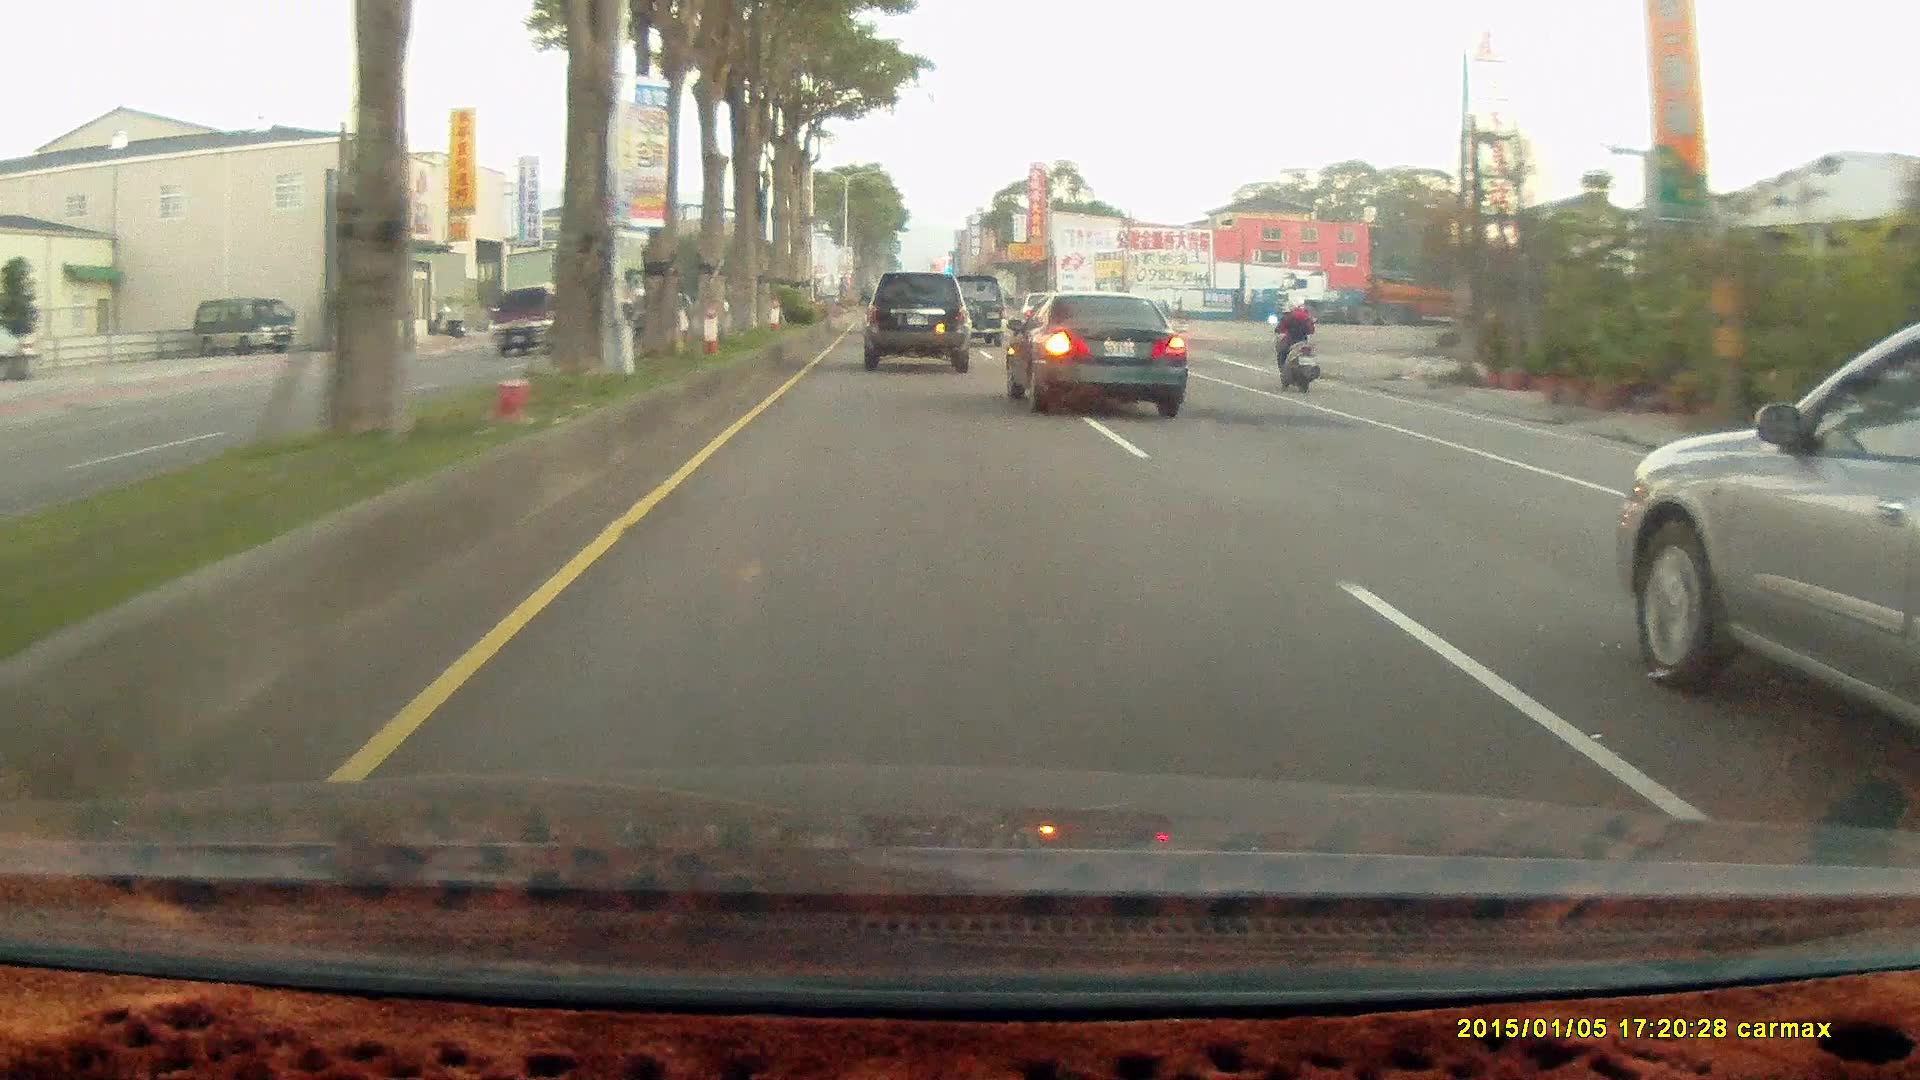rider: (1260, 288, 1329, 400), (1268, 288, 1322, 391)
vehicle: (1617, 317, 1919, 765), (1004, 289, 1192, 413), (1005, 289, 1188, 416), (1280, 264, 1523, 321), (863, 267, 975, 370), (858, 270, 970, 371), (191, 296, 296, 355), (489, 283, 571, 357), (191, 296, 296, 351), (942, 272, 1010, 347)
